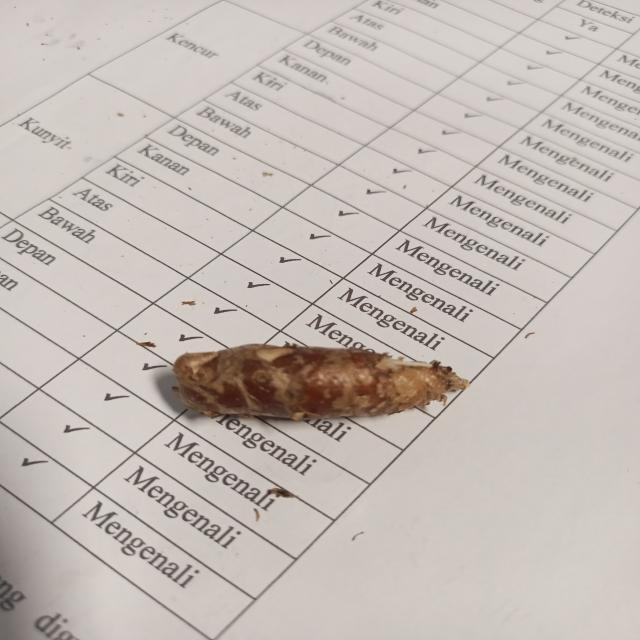ginger: (180, 346, 450, 418)
